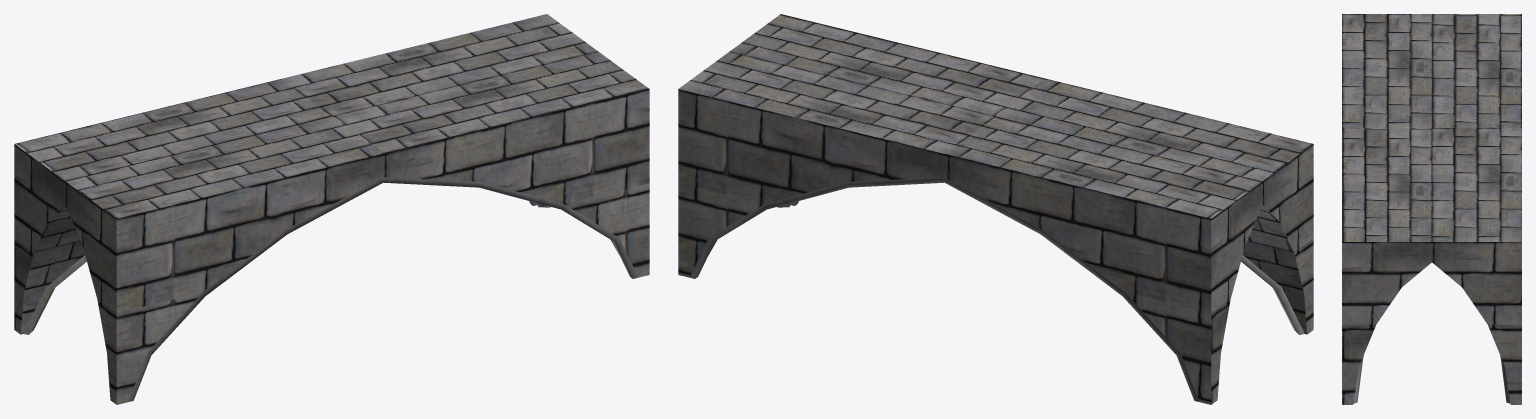
Rendered from vault_large_01.fbx.
3 views of the same model, side by side, from view 1: azimuth 30°, elevation 25°; view 2: azimuth 150°, elevation 25°; view 3: azimuth 270°, elevation 25° (orthographic). The views are drawn at different scales.
Parts seen in each view (by area): view 1: vault_large_01; view 2: vault_large_01; view 3: vault_large_01.
Part boxes in pixels (<box>): vault_large_01: <box>14,14,649,404</box>; vault_large_01: <box>678,14,1313,404</box>; vault_large_01: <box>1342,14,1521,404</box>.
Size of the model in its own units: 2400 by 800 by 800.
